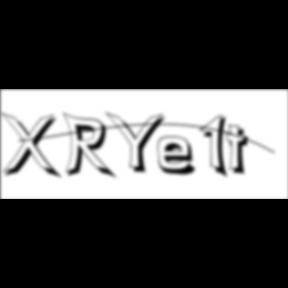1: (200, 114, 234, 182)
R: (62, 112, 119, 182)
X: (0, 112, 64, 182)
Y: (104, 110, 172, 176)
e: (158, 135, 204, 178)
t: (226, 124, 256, 179)
